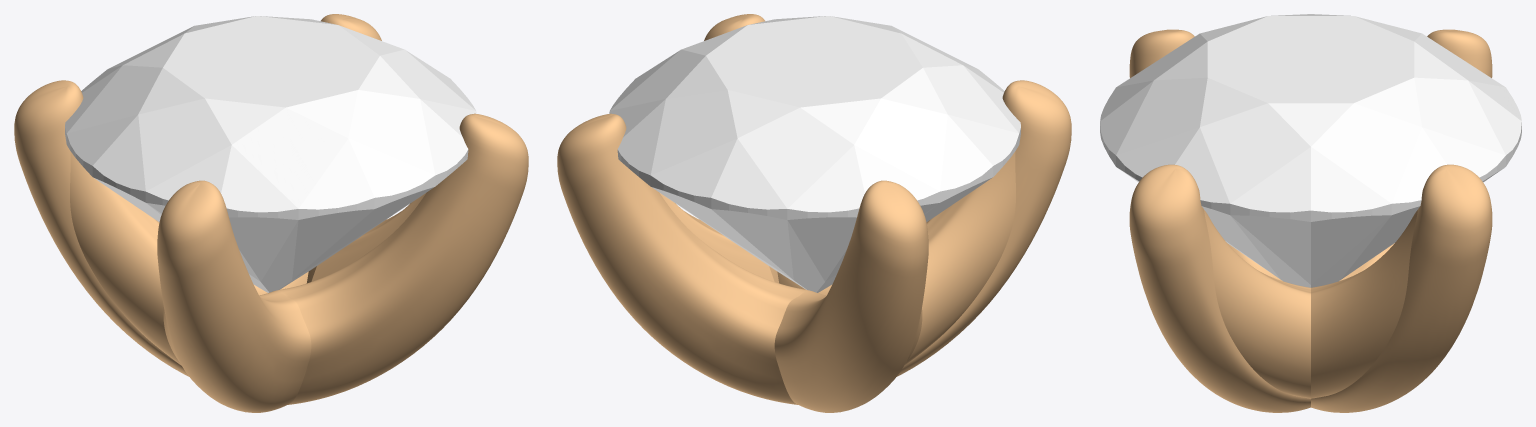
Rendered from round_head.glb.
3 renders of one model, left to right at view 1: azimuth 30°, elevation 25°; view 2: azimuth 150°, elevation 25°; view 3: azimuth 270°, elevation 25°, orthographic. The views are drawn at different scales.
Visible parts, largest first — view 1: Round Head.3dm, Diamond_Round; view 2: Round Head.3dm, Diamond_Round; view 3: Diamond_Round, Round Head.3dm.
Boxes of the visible parts, <box> form: Round Head.3dm: <box>14,14,528,412</box>; Diamond_Round: <box>65,16,476,292</box>; Round Head.3dm: <box>557,14,1071,412</box>; Diamond_Round: <box>609,16,1020,292</box>; Diamond_Round: <box>1100,14,1521,287</box>; Round Head.3dm: <box>1129,29,1492,412</box>.
Size of the model in its own units: 0.9011 by 0.8035 by 0.8946.
